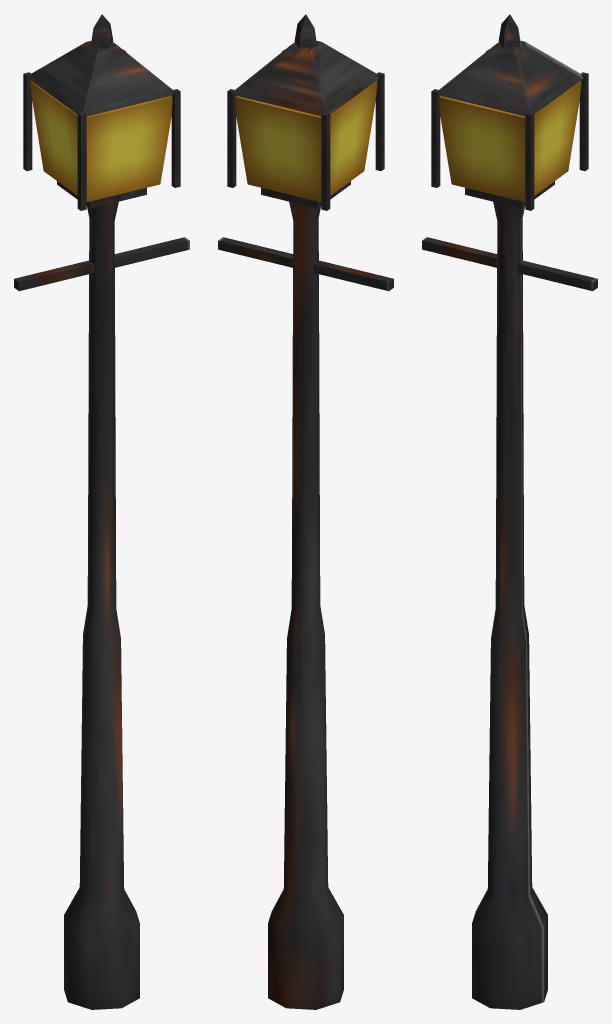
File: lamp_post.obj
3 views of the same model, side by side, from view 1: azimuth 30°, elevation 25°; view 2: azimuth 150°, elevation 25°; view 3: azimuth 330°, elevation 25° (orthographic).
Visible parts, largest first — view 1: lamp_post; view 2: lamp_post; view 3: lamp_post.
Boxes of the visible parts, x1,y1,x2,y2 form: lamp_post: (14,14,189,1009); lamp_post: (218,14,393,1009); lamp_post: (422,14,597,1009).
Bounding box in the file's own units: 0.6 × 3.29 × 0.35.
Materials: 1 (1 with a texture image).
